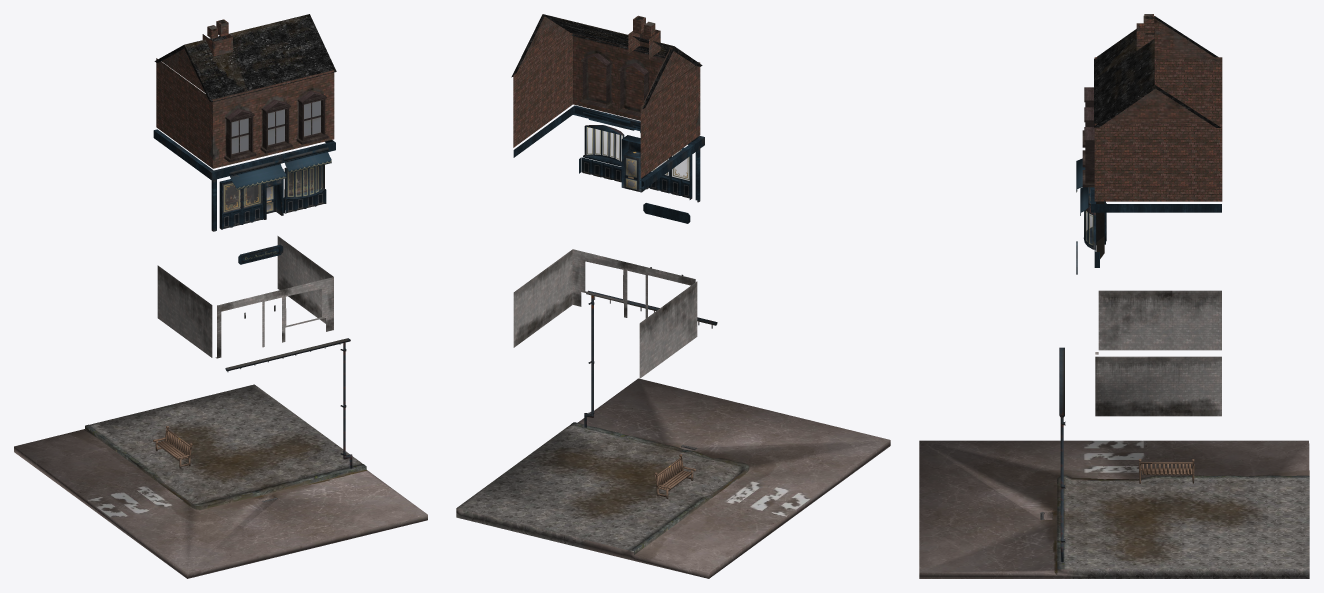
Rendered from antique_shop.glb.
The picture shows the model from 3 angles, left to right: view 1: azimuth 30°, elevation 25°; view 2: azimuth 150°, elevation 25°; view 3: azimuth 270°, elevation 25°; orthographic projection. The views are drawn at different scales.
Visible parts, largest first — view 1: path_low_12 - Default_0, top wall_low_20 - Default_0, small inset_low_07 - Default_0, roof_low_17 - Default_0, white bricks_low_21 - Default_0, canopy_low_14 - Default_0, window and inside_22 - Default_0, window_low_08 - Default_0, gutter_low_16 - Default_0, bench_low_11 - Default_0, door frame_low_13 - Default_0; view 2: path_low_12 - Default_0, top wall_low_20 - Default_0, white bricks_low_21 - Default_0, small inset_low_07 - Default_0, roof_low_17 - Default_0, door frame_low_13 - Default_0, gutter_low_16 - Default_0, bench_low_11 - Default_0; view 3: path_low_12 - Default_0, top wall_low_20 - Default_0, white bricks_low_21 - Default_0, roof_low_17 - Default_0, small inset_low_07 - Default_0, gutter_low_16 - Default_0, bench_low_11 - Default_0.
Boxes of the visible parts, bbox=[...] form: path_low_12 - Default_0: bbox=[14, 384, 427, 578]; top wall_low_20 - Default_0: bbox=[156, 19, 334, 168]; small inset_low_07 - Default_0: bbox=[153, 90, 335, 231]; roof_low_17 - Default_0: bbox=[154, 14, 336, 102]; white bricks_low_21 - Default_0: bbox=[157, 236, 333, 358]; canopy_low_14 - Default_0: bbox=[228, 147, 331, 190]; window and inside_22 - Default_0: bbox=[222, 165, 324, 212]; window_low_08 - Default_0: bbox=[222, 181, 262, 214]; gutter_low_16 - Default_0: bbox=[225, 338, 352, 468]; bench_low_11 - Default_0: bbox=[153, 426, 192, 468]; door frame_low_13 - Default_0: bbox=[263, 169, 283, 219]; path_low_12 - Default_0: bbox=[456, 378, 890, 578]; top wall_low_20 - Default_0: bbox=[513, 15, 700, 178]; white bricks_low_21 - Default_0: bbox=[513, 249, 697, 378]; small inset_low_07 - Default_0: bbox=[513, 53, 704, 202]; roof_low_17 - Default_0: bbox=[511, 14, 702, 108]; door frame_low_13 - Default_0: bbox=[621, 135, 646, 192]; gutter_low_16 - Default_0: bbox=[584, 290, 717, 427]; bench_low_11 - Default_0: bbox=[654, 454, 695, 498]; path_low_12 - Default_0: bbox=[919, 440, 1309, 578]; top wall_low_20 - Default_0: bbox=[1094, 14, 1222, 201]; white bricks_low_21 - Default_0: bbox=[1095, 290, 1221, 416]; roof_low_17 - Default_0: bbox=[1094, 16, 1221, 127]; small inset_low_07 - Default_0: bbox=[1082, 87, 1221, 267]; gutter_low_16 - Default_0: bbox=[1059, 347, 1065, 562]; bench_low_11 - Default_0: bbox=[1139, 459, 1194, 483].
Size of the model in its own units: 638 by 1144 by 797.
15 materials, 15 textured.
